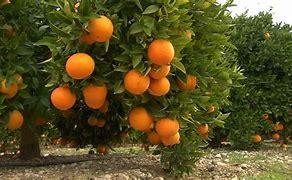orange: (115, 64, 176, 96), (72, 8, 124, 44), (139, 36, 177, 65), (79, 80, 106, 117), (153, 114, 181, 147), (48, 81, 78, 109), (67, 51, 95, 80), (126, 107, 154, 134), (9, 109, 36, 134), (0, 70, 22, 95)
